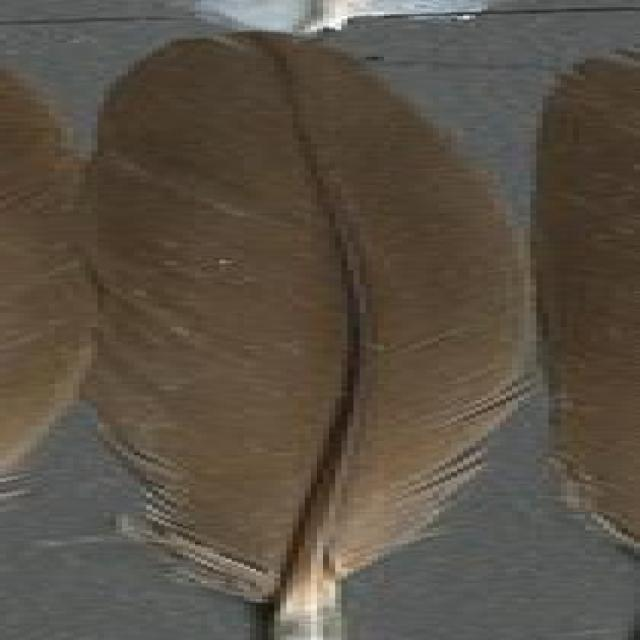feather: (105, 32, 538, 640)
